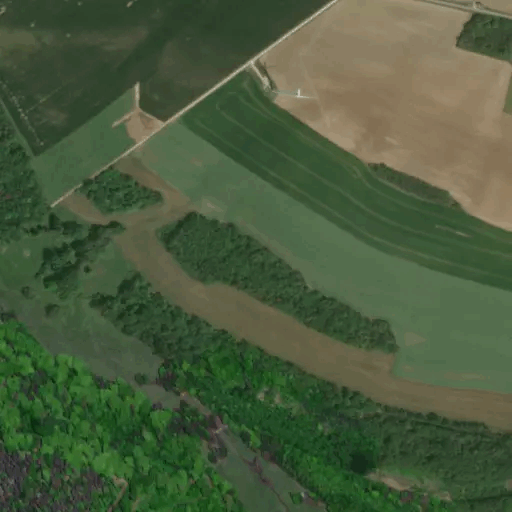wt: (247, 56, 318, 107)
